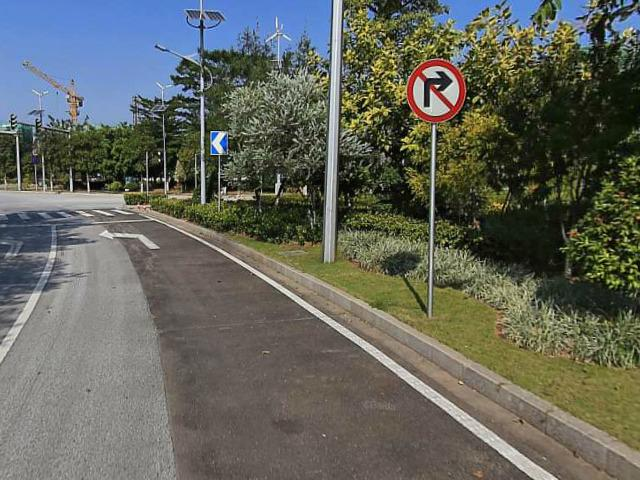not_turn_right: (407, 58, 468, 123)
